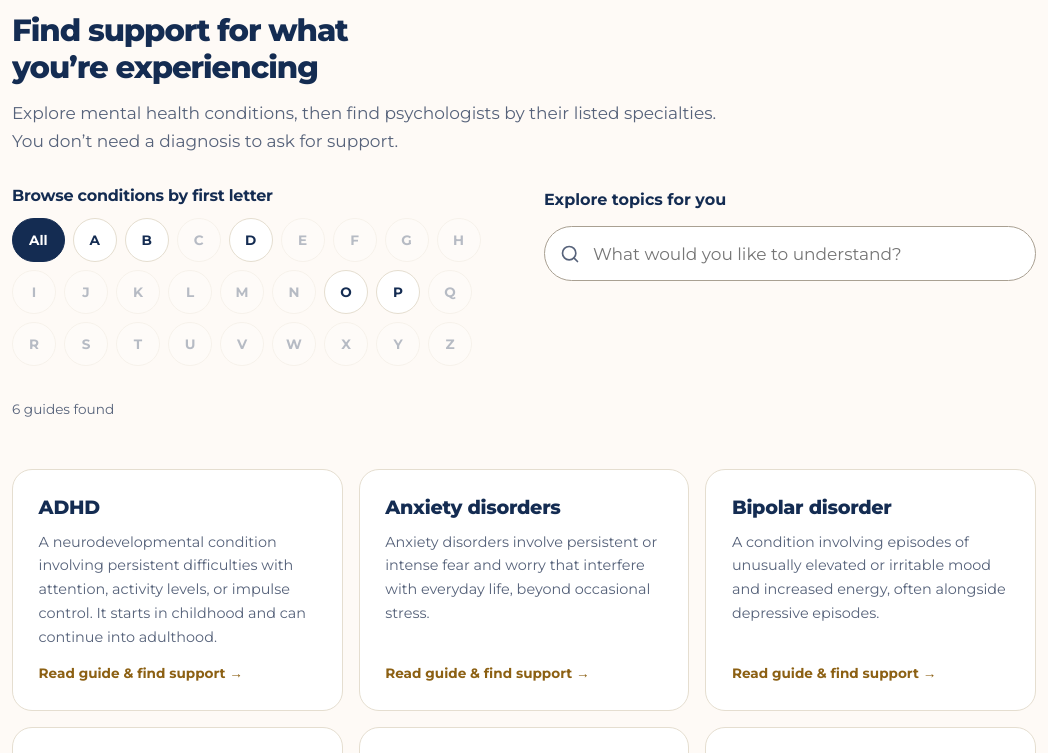
Test: ConditionDirectory › filters by first letter and clears the letter when typing a new search
Click the button "D": [251, 240] box [229,218,273,262]
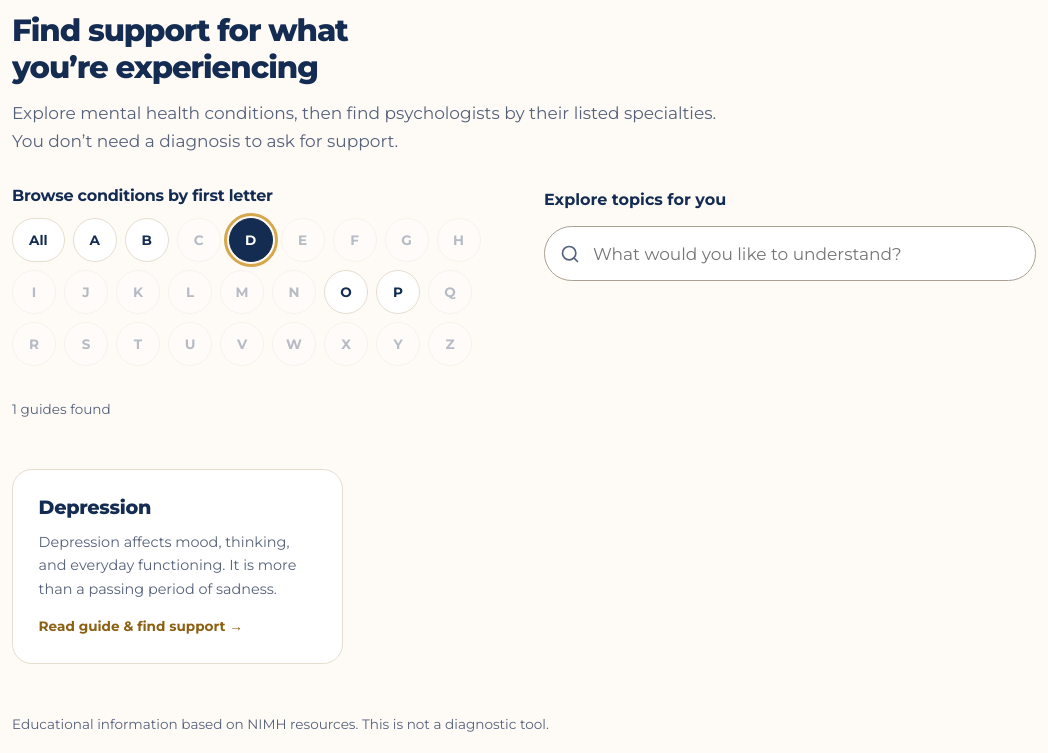
Expected: the number of links is 1, [12,469,343,664]
In the search field: [790, 254] box [544,226,1036,281], type "ADHD"
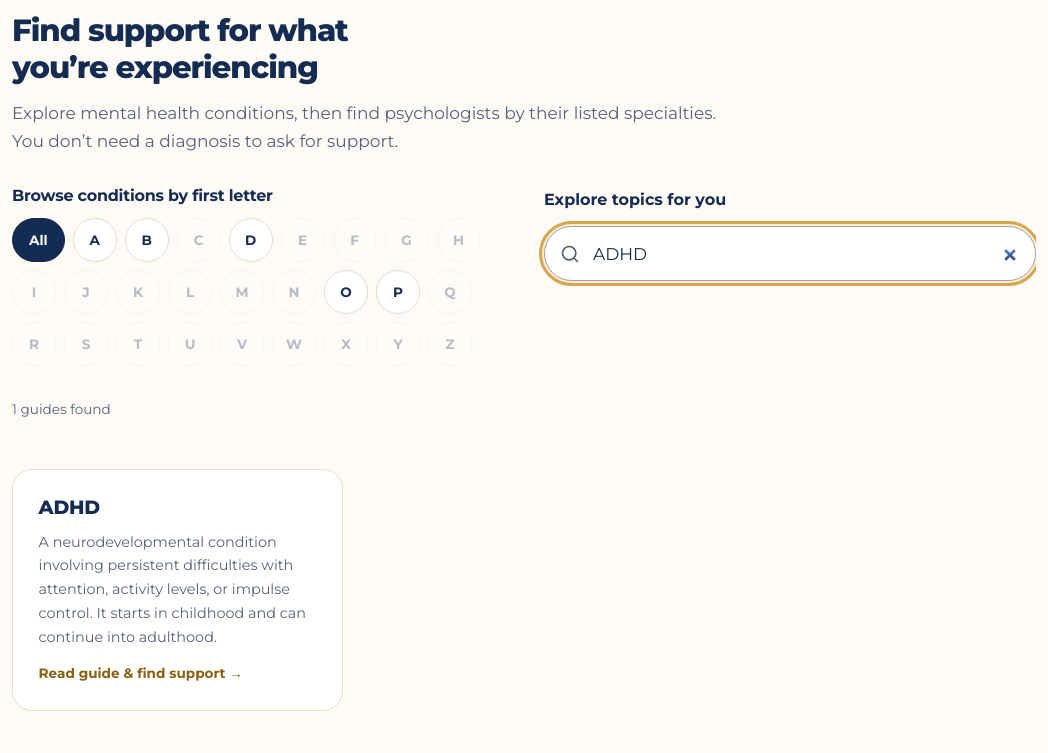
Expected: the link "ADHD" is shown, [12,469,343,711]
